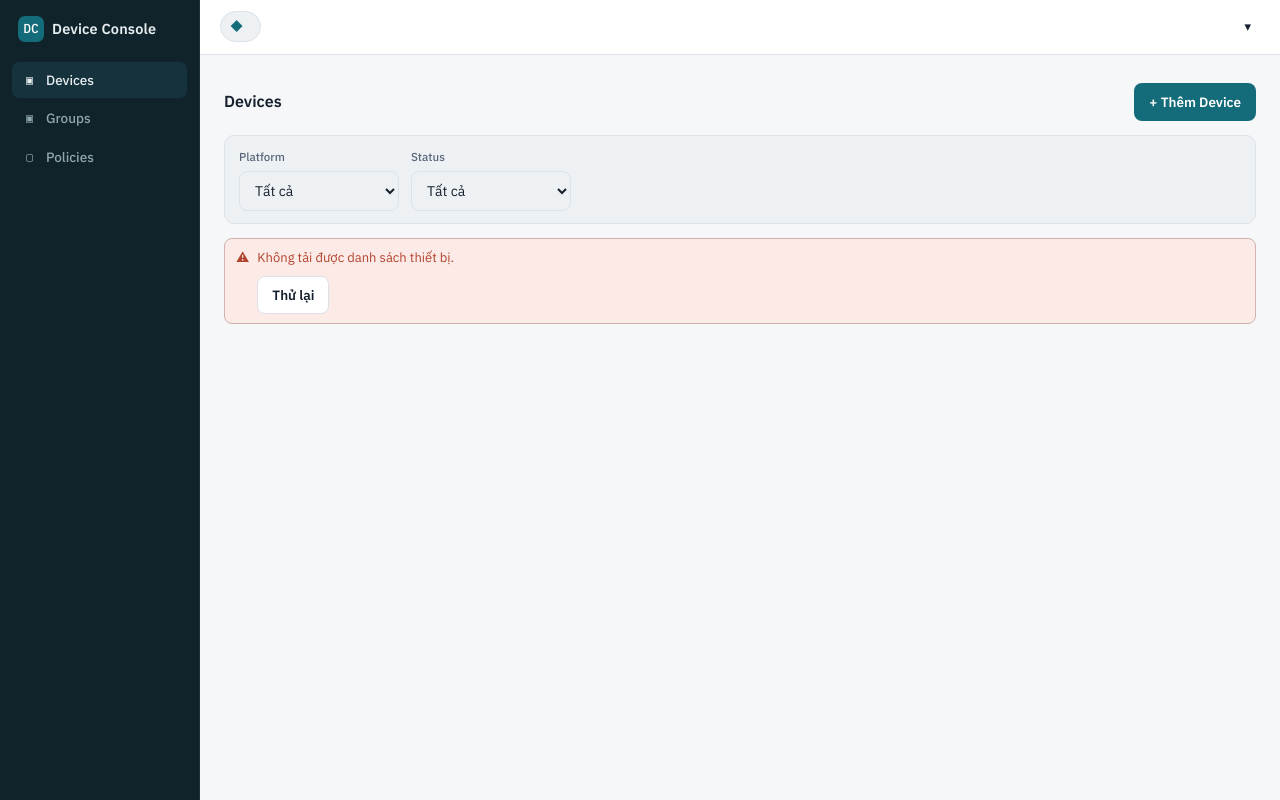
Test case: DeviceListView › shows an error banner with a retry button and refetches on retry
The image size is (1280, 800).
Expected: the message with test id "error-banner" shows "Không tải được danh sách thiết bị.", [257,249,454,266]
Expected: the dropdown with test id "filter-platform" is enabled, [239,171,399,211]
Click the button with test id "retry-button": (293, 295) [257,276,329,314]
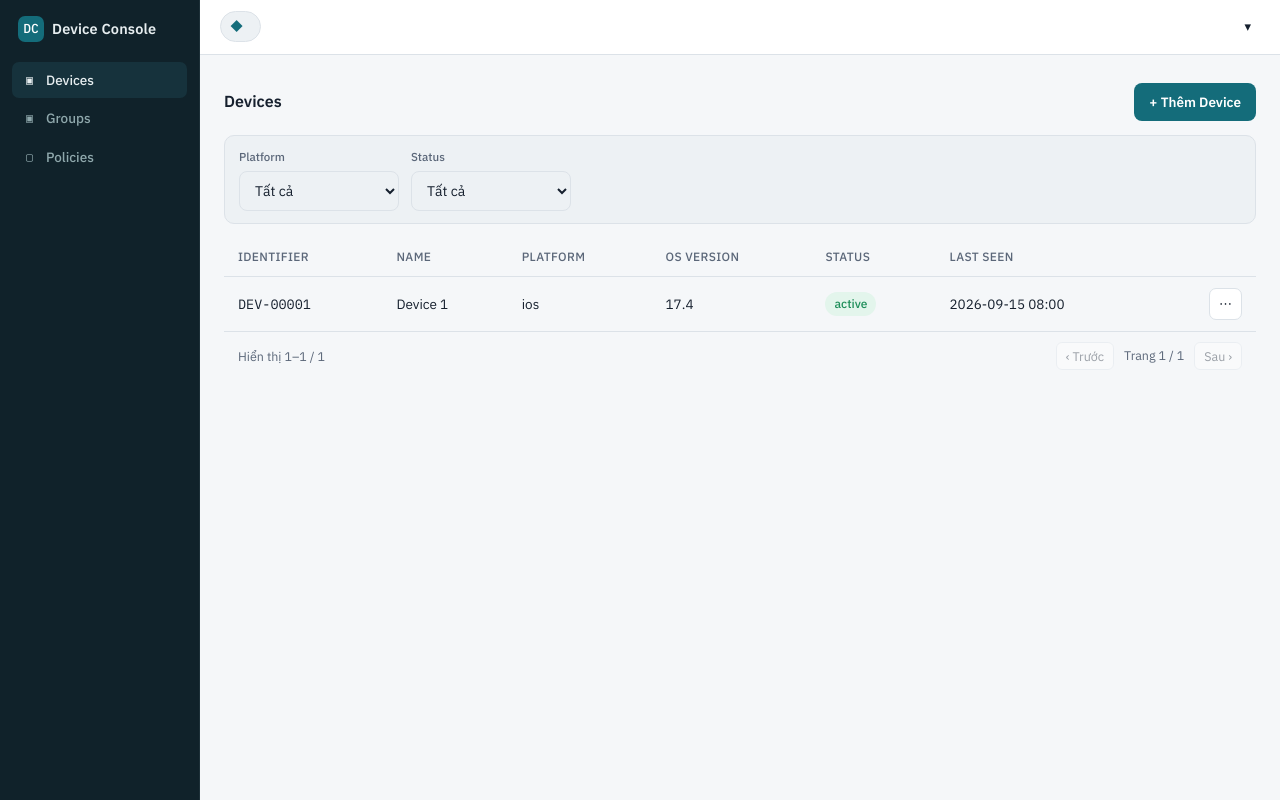
Expected: the number of rows with test id "device-row" is 1, [224,276,1256,331]
